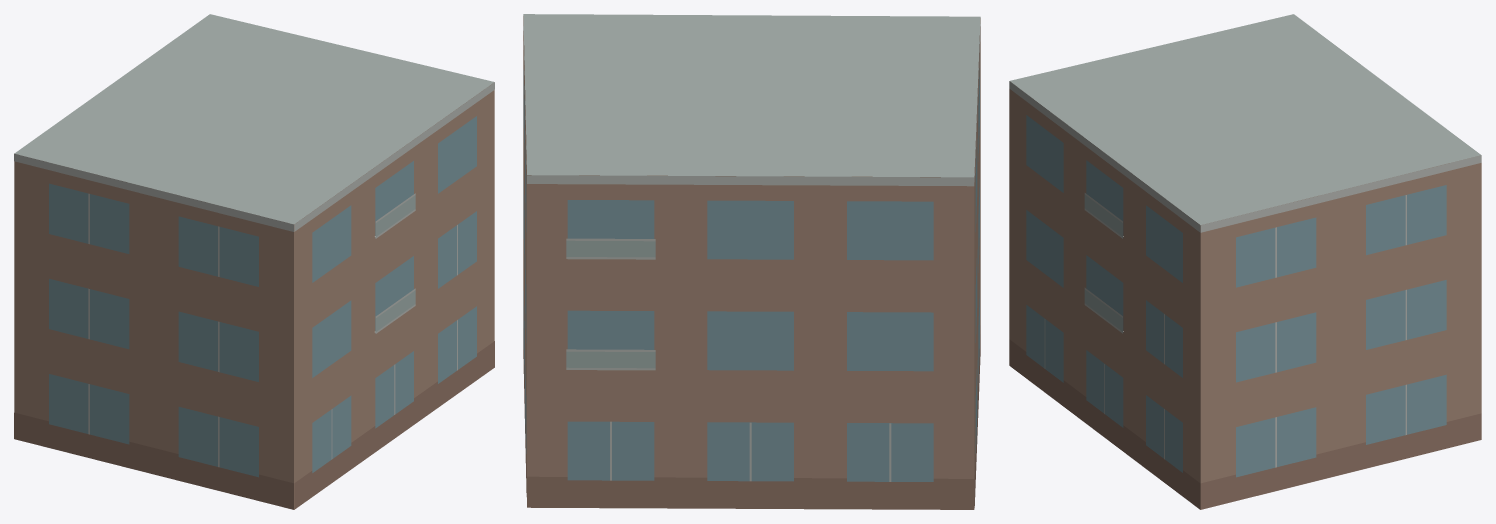
File: survey-upis-32694464.glb
3 renders of one model, left to right at view 1: azimuth 30°, elevation 25°; view 2: azimuth 150°, elevation 25°; view 3: azimuth 270°, elevation 25°, orthographic. The views are drawn at different scales.
Parts seen in each view (by area): view 1: survey-upis-32694464.tmp; view 2: survey-upis-32694464.tmp; view 3: survey-upis-32694464.tmp.
Part boxes in pixels (bbox=[...]): survey-upis-32694464.tmp: bbox=[14, 14, 494, 509]; survey-upis-32694464.tmp: bbox=[523, 14, 980, 509]; survey-upis-32694464.tmp: bbox=[1009, 14, 1481, 509].
Size of the model in its own units: 14.49 by 9.1 by 13.69.
